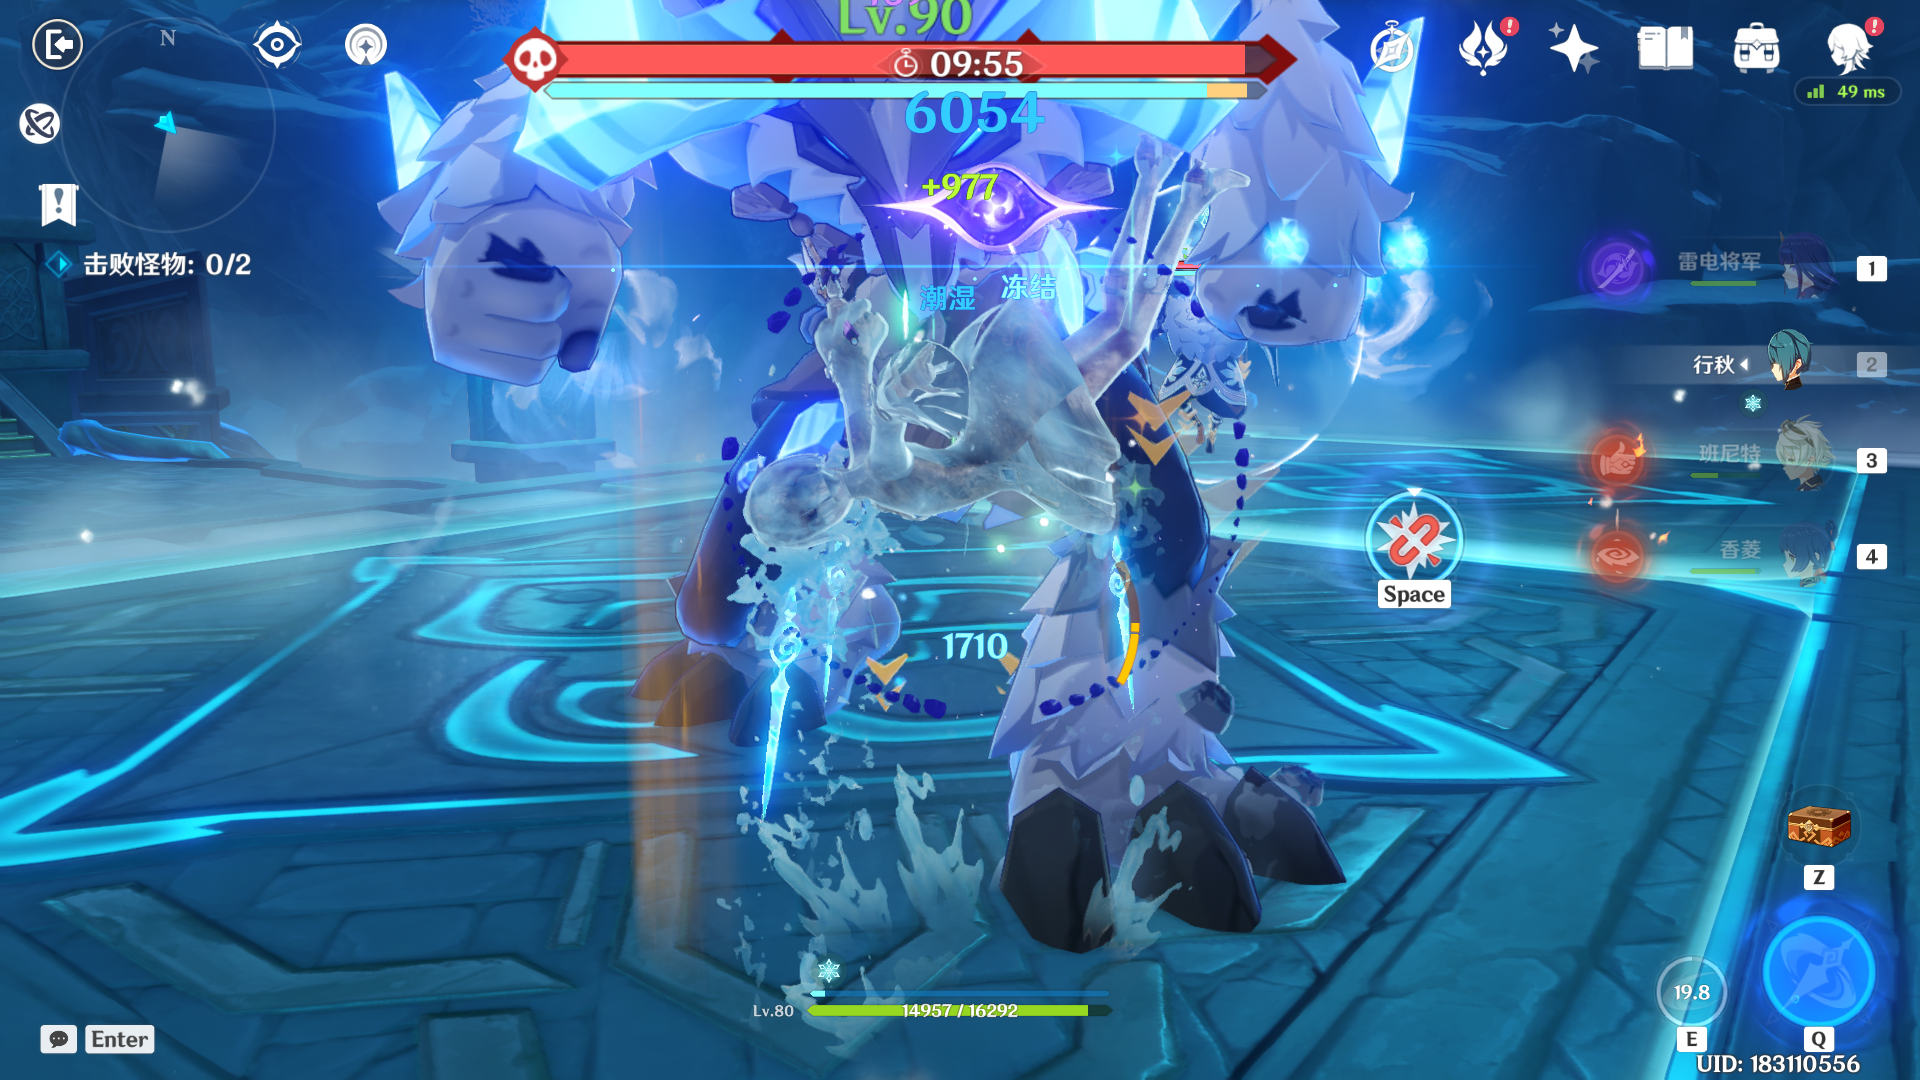bosshili: (302, 1, 1532, 1025)
